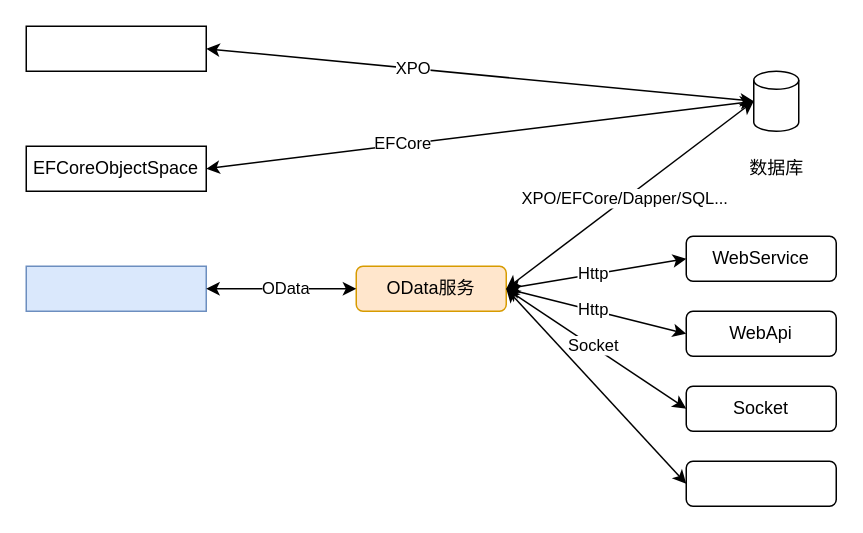
Image size: 863x533. Some labels were removed from this diagram. The box of each missing label's shape, as (x1, y1, x2, y2) in pixels:
ODataObjectSpace: (25, 265, 206, 311)
XPObjectSpace: (25, 25, 206, 71)
其它数据源: (685, 460, 836, 506)
